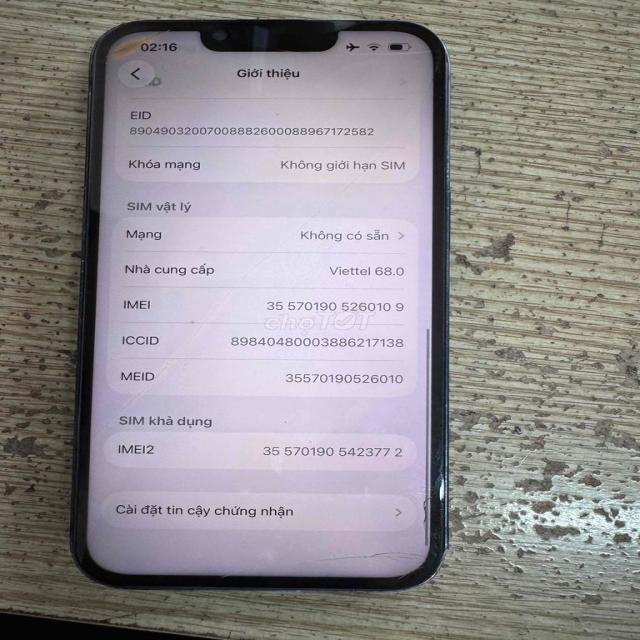gen_12_13: (55, 1, 468, 602)
physical_damage: (85, 110, 423, 449), (212, 549, 445, 596), (262, 29, 445, 68), (103, 17, 197, 68), (412, 483, 441, 537)
screen_defect: (103, 20, 175, 64)
